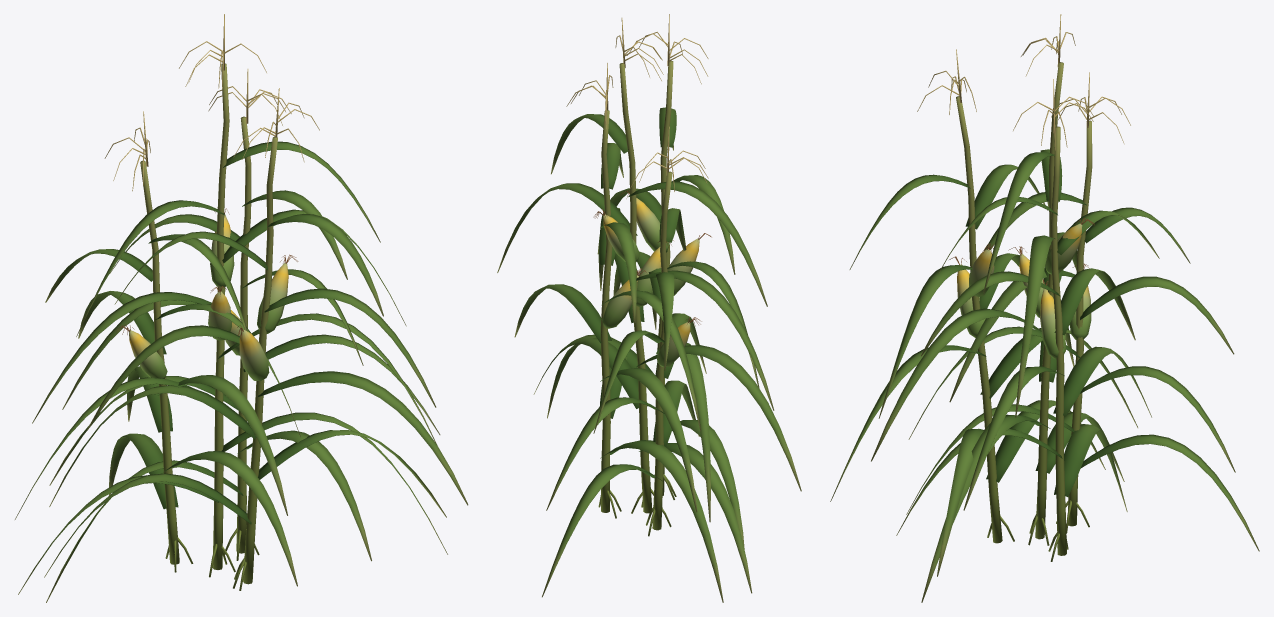
Rendered from wild_corn.glb.
3 views of the same model, side by side, from view 1: azimuth 30°, elevation 25°; view 2: azimuth 150°, elevation 25°; view 3: azimuth 270°, elevation 25° (orthographic). The views are drawn at different scales.
Parts seen in each view (by area): view 1: WildCorn; view 2: WildCorn; view 3: WildCorn.
Boxes of the visible parts, x1,y1,x2,y2 form: WildCorn: (15,14,468,602); WildCorn: (497,14,801,602); WildCorn: (830,14,1259,602).
Size of the model in its own units: 1.69 by 2.53 by 1.73.
